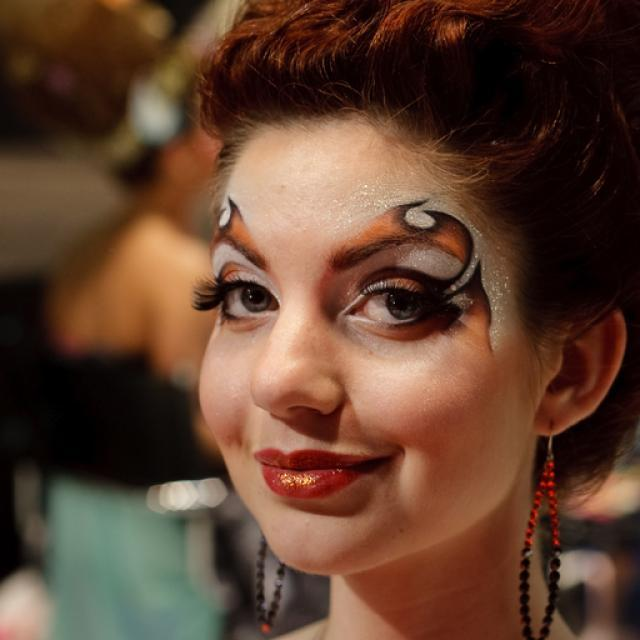happy: (196, 108, 540, 578)
